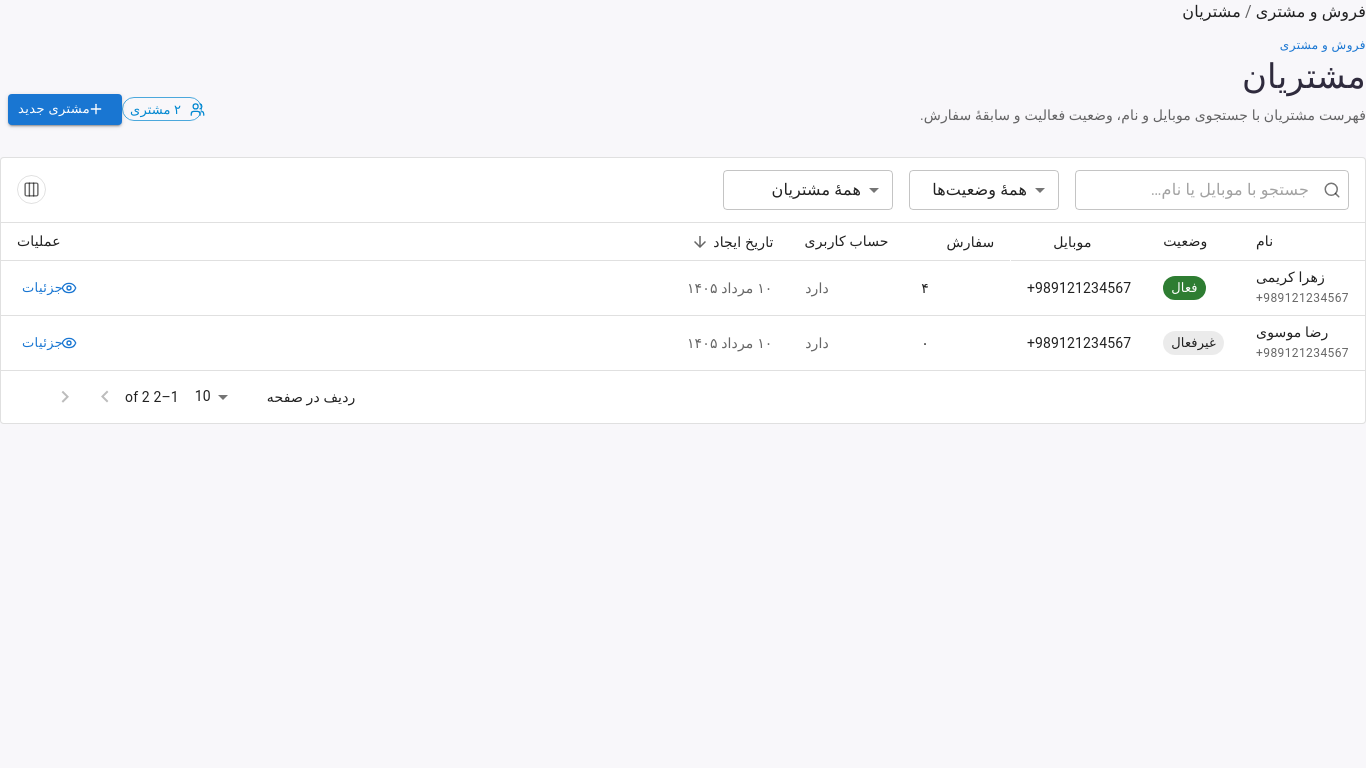
Test case: CustomersView › loads the detail dialog with addresses, notes and order history
Expected: the text "زهرا کریمی" is shown, [1256,269,1325,285]
Click the button "جزئیات" in the row of "زهرا کریمی" at point(54, 288), box [17,273,90,304]
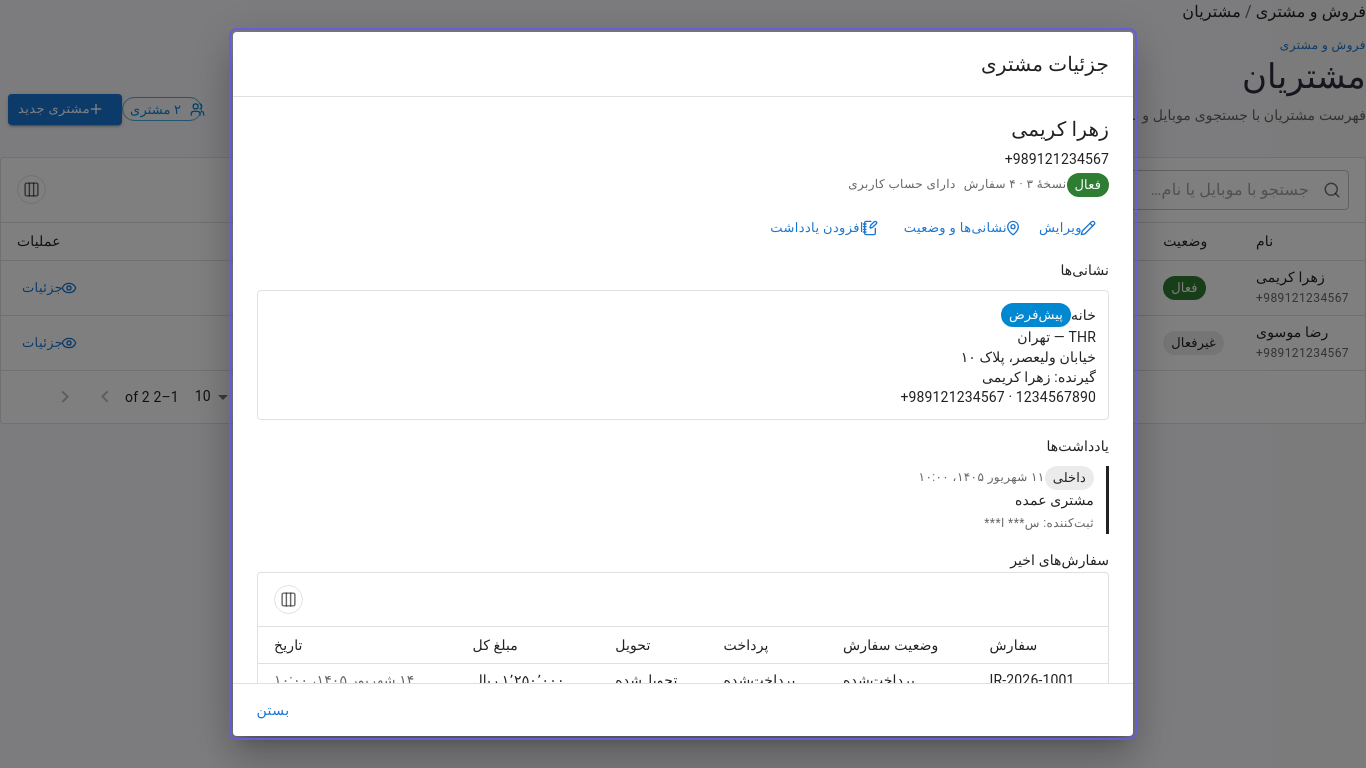
Expected: the heading "جزئیات مشتری" is shown, [981,52,1109,76]
Expected: the text "خانه" is shown, [1071,305,1096,325]
Expected: the text "پیش‌فرض" is shown, [1009,307,1063,322]
